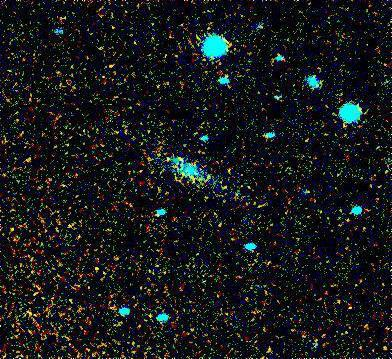star: (165, 144, 195, 174)
